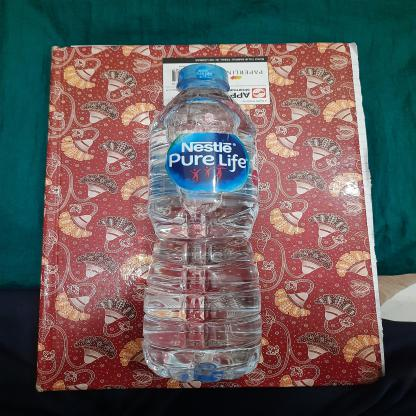bottle: (140, 61, 266, 383)
